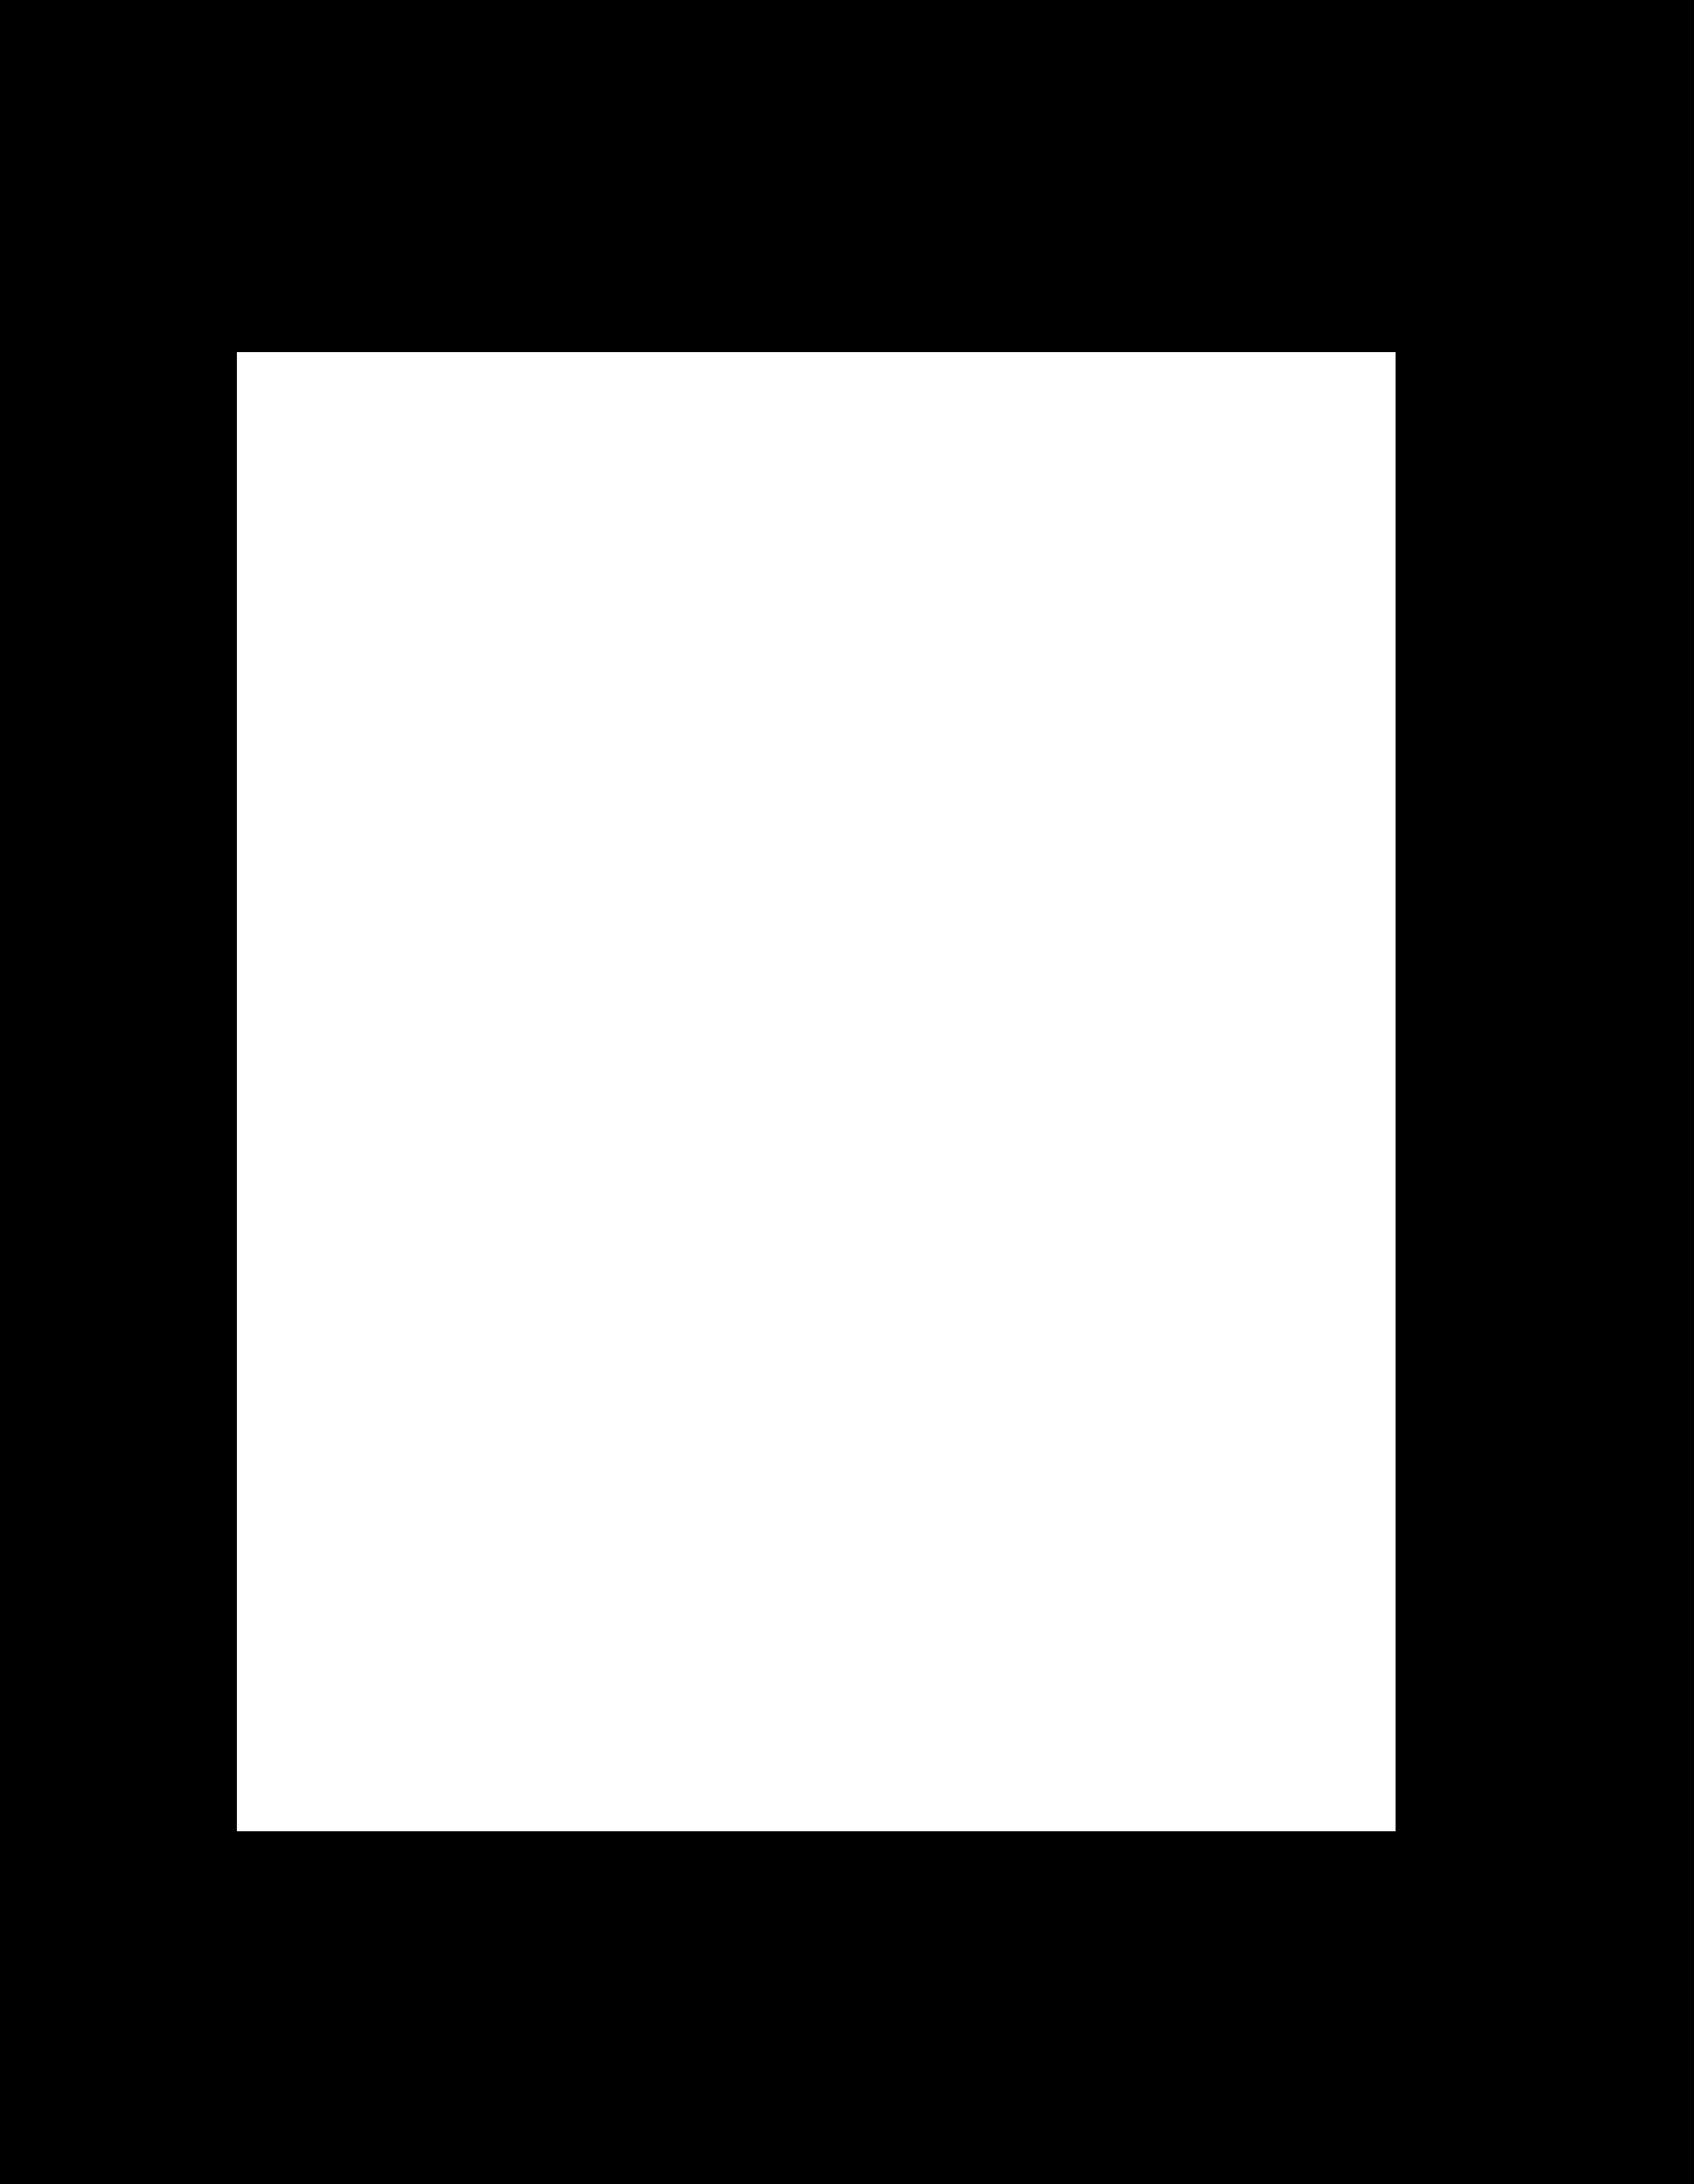table: (237, 353, 1395, 1831)
